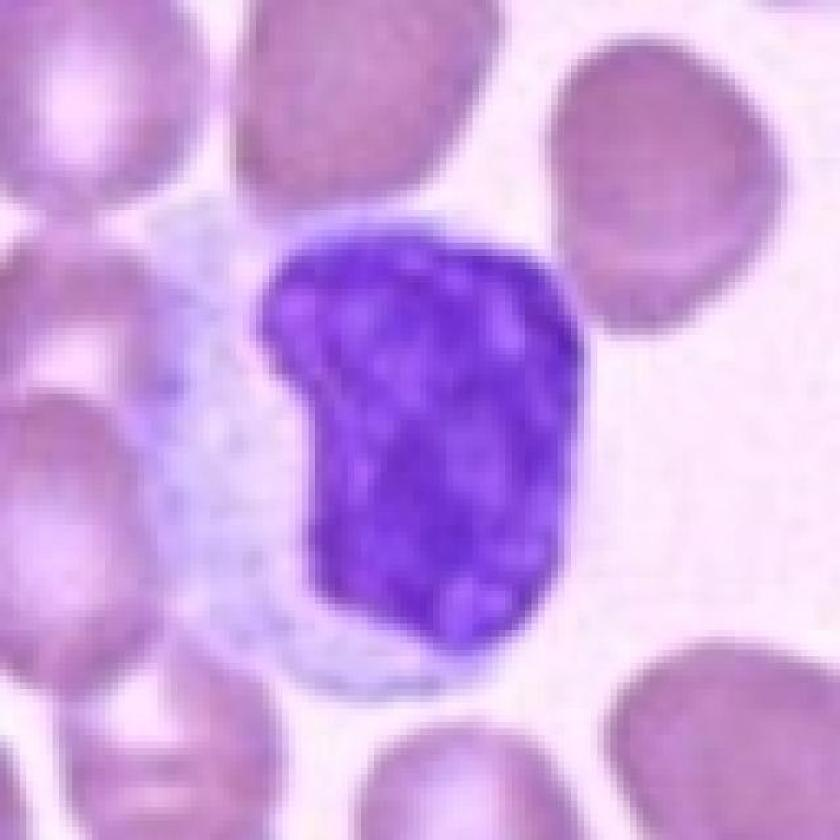lymphocyte: (115, 160, 594, 702)
